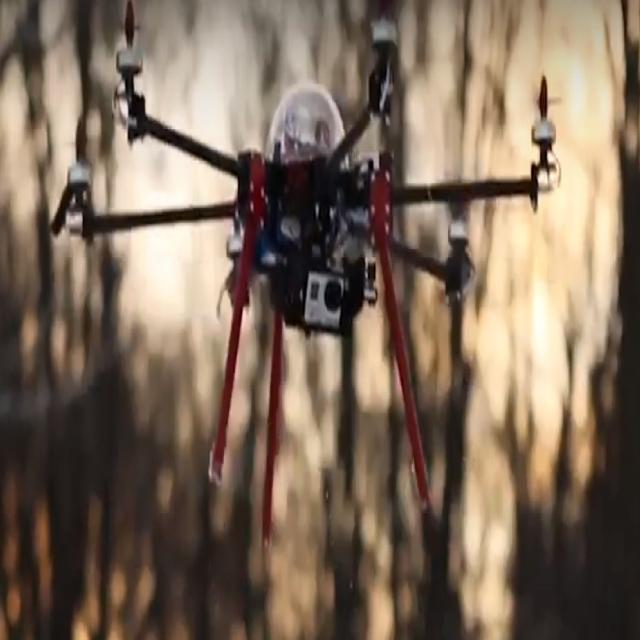drone: (28, 0, 570, 527)
